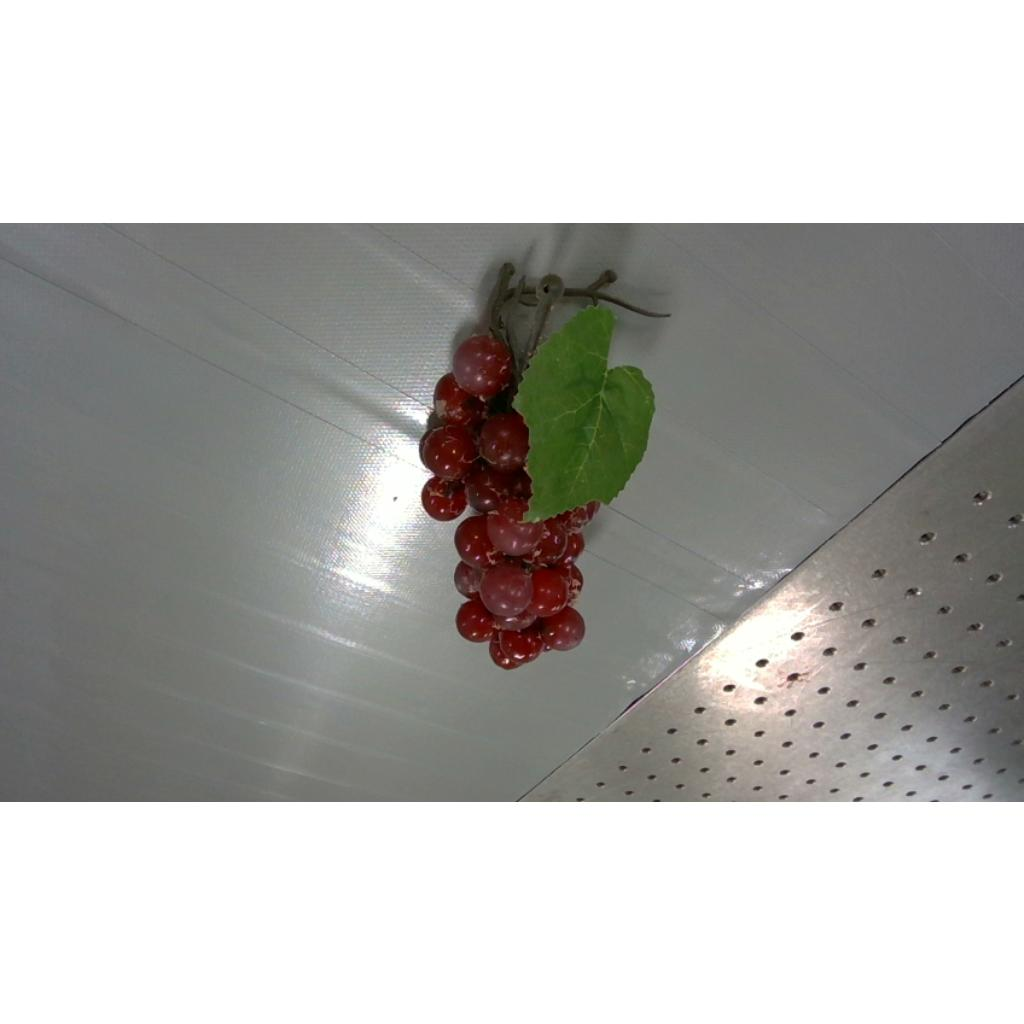grape: (420, 262, 664, 668)
